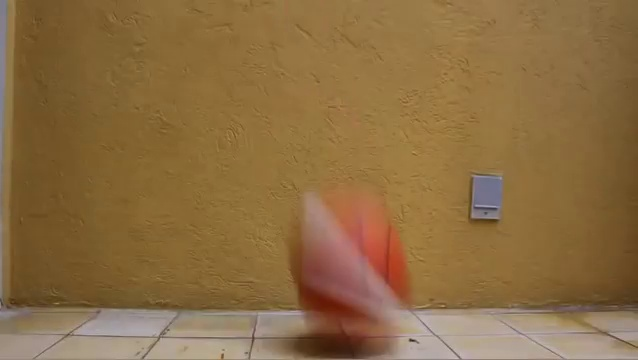ball: (287, 192, 418, 349)
